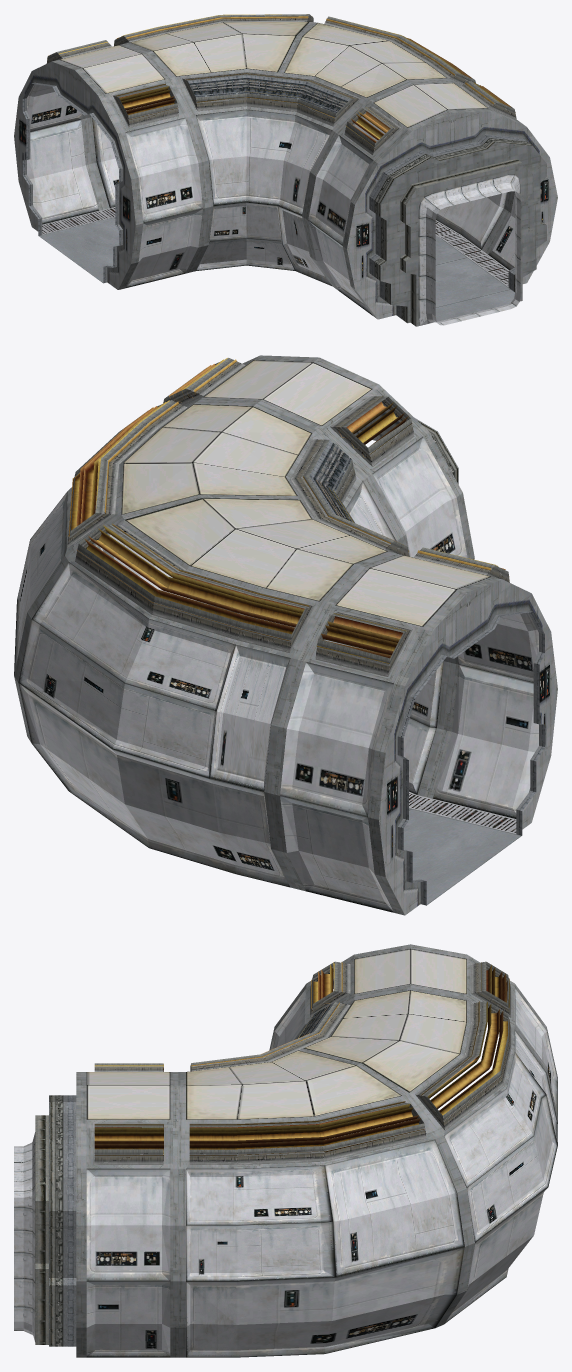
File: poi_all_rebl_bunker_s01_r10_hallway4_mesh_r10.fbx
The picture shows the model from 3 angles, top to bottom: view 1: azimuth 30°, elevation 25°; view 2: azimuth 150°, elevation 25°; view 3: azimuth 270°, elevation 25°; orthographic projection. The views are drawn at different scales.
Parts seen in each view (by area): view 1: mesh_node; view 2: mesh_node; view 3: mesh_node.
Part boxes in pixels (left/top/right/bottom): mesh_node: left=14, top=14, right=557, bottom=326; mesh_node: left=14, top=355, right=557, bottom=915; mesh_node: left=14, top=944, right=557, bottom=1357.
Bounding box in the file's own units: 8.6 × 4.44 × 9.6.
